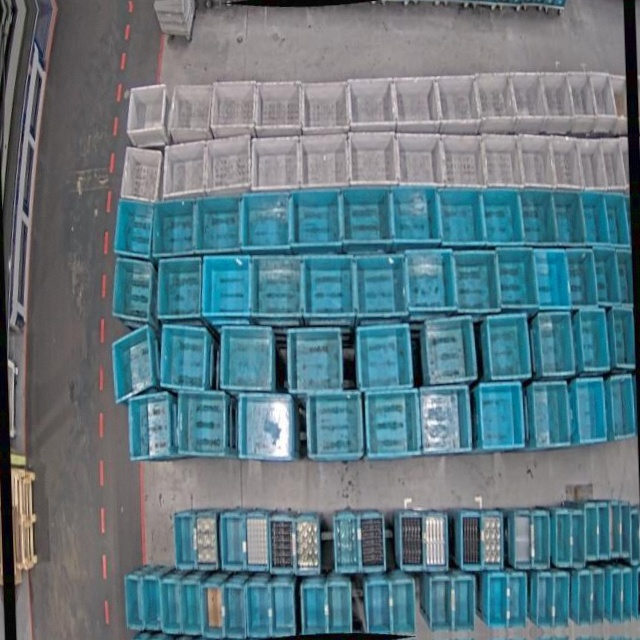Box: (216, 324, 276, 394), (355, 321, 414, 390), (235, 393, 294, 461), (365, 388, 421, 459), (422, 315, 476, 388), (286, 326, 343, 395), (305, 392, 363, 459), (110, 323, 156, 407), (176, 386, 229, 458), (157, 324, 211, 393), (249, 254, 304, 320), (125, 391, 176, 462), (153, 253, 204, 324), (353, 254, 410, 317), (199, 254, 254, 319), (300, 256, 356, 319), (340, 184, 393, 250), (420, 386, 471, 454), (289, 186, 343, 249), (148, 197, 200, 261), (109, 256, 157, 325), (159, 141, 210, 205), (407, 248, 456, 314), (240, 190, 292, 252), (484, 313, 531, 381), (451, 248, 499, 314), (390, 186, 441, 248), (193, 194, 244, 256), (479, 381, 524, 451), (204, 134, 252, 199), (208, 79, 259, 139), (166, 80, 214, 142), (250, 137, 302, 194), (349, 129, 399, 188), (110, 198, 156, 262), (254, 78, 302, 138), (439, 185, 486, 246), (117, 145, 164, 206), (495, 247, 539, 312), (300, 131, 349, 189), (300, 76, 349, 133), (393, 74, 439, 133), (398, 132, 444, 190), (475, 70, 516, 134), (348, 74, 396, 128), (437, 73, 480, 133), (531, 383, 570, 449), (127, 85, 168, 147), (536, 311, 574, 376), (442, 132, 485, 189), (481, 135, 523, 190), (534, 249, 570, 312), (482, 188, 522, 244), (576, 308, 609, 374), (517, 134, 557, 188), (519, 188, 557, 244), (574, 378, 606, 443), (541, 73, 574, 135), (513, 72, 545, 133), (608, 374, 636, 442), (550, 135, 584, 191), (553, 188, 586, 245), (194, 505, 221, 570), (567, 248, 597, 306), (570, 71, 598, 133), (219, 510, 246, 574), (581, 187, 611, 244), (293, 513, 320, 575), (590, 72, 617, 133), (359, 511, 385, 573), (422, 513, 449, 572), (398, 510, 425, 569), (333, 512, 359, 573), (593, 249, 621, 305), (598, 136, 626, 192), (269, 581, 296, 639), (459, 508, 484, 570), (244, 511, 269, 572), (428, 577, 456, 631), (611, 305, 635, 368), (268, 515, 293, 575), (173, 512, 198, 572), (577, 138, 607, 188), (391, 580, 416, 638), (528, 509, 551, 572), (481, 510, 505, 570), (325, 582, 353, 633), (246, 582, 270, 640), (452, 577, 477, 632), (366, 579, 391, 634), (200, 584, 225, 639), (487, 574, 511, 629), (510, 509, 532, 569), (506, 573, 529, 629), (223, 584, 246, 640), (301, 584, 326, 635), (606, 193, 629, 248), (550, 573, 571, 630), (180, 581, 202, 635), (535, 572, 555, 629), (122, 575, 142, 631), (568, 507, 586, 569), (575, 569, 594, 626), (142, 575, 162, 629), (160, 580, 180, 633), (588, 570, 606, 628), (616, 249, 634, 307), (582, 501, 599, 561), (610, 75, 627, 135), (553, 510, 570, 568), (608, 570, 624, 625), (606, 500, 620, 560), (619, 568, 634, 623), (627, 505, 640, 565), (596, 501, 609, 561), (617, 501, 630, 555), (633, 566, 640, 619)
